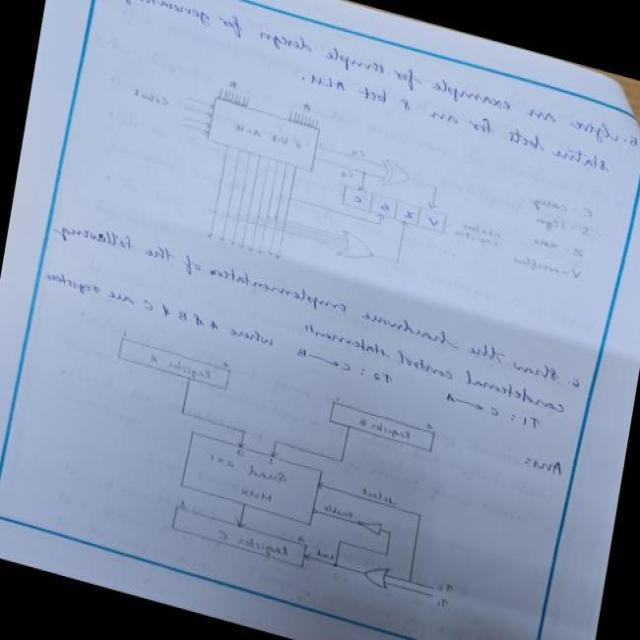Figure Detection - v3 Dataset Version2: (95, 42, 622, 354), (50, 307, 501, 636)
